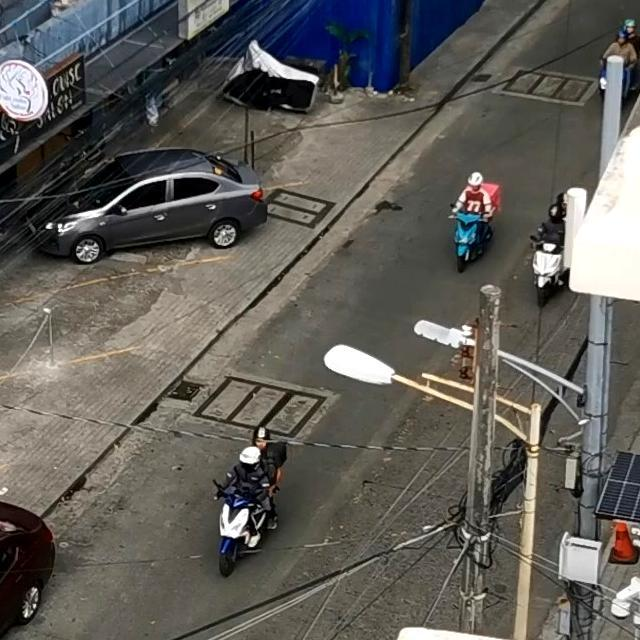Motorcycle: (214, 457, 284, 575), (528, 218, 568, 306), (603, 15, 640, 109), (451, 198, 495, 274)
